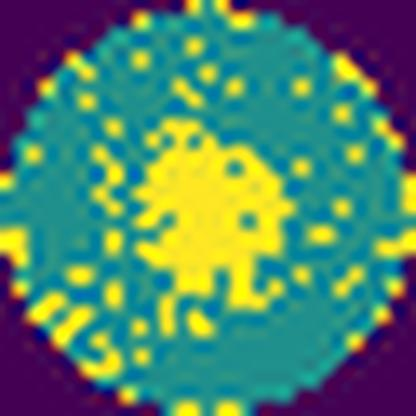Center: (133, 113, 289, 318)
